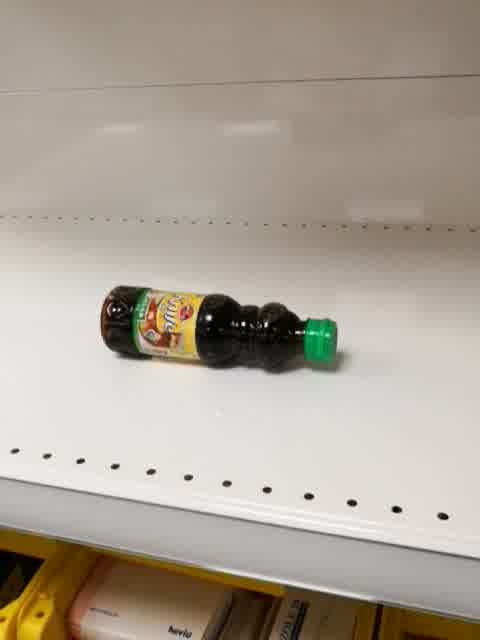cookingoil: (96, 282, 340, 373)
